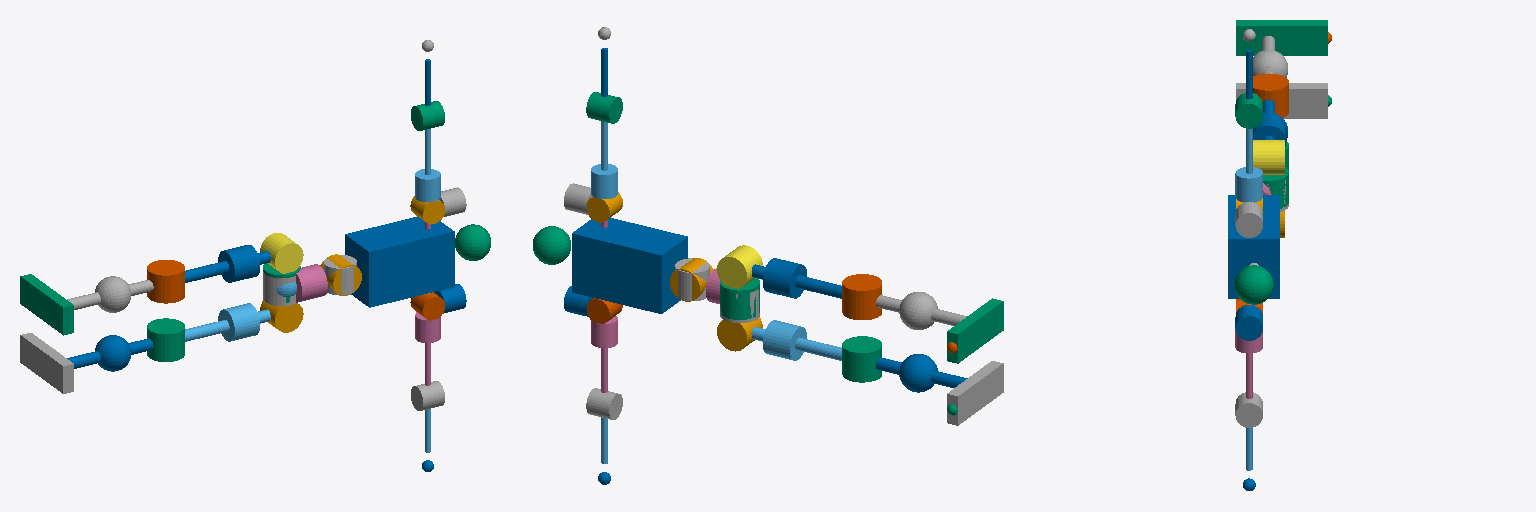
--- Render facts (derived) ---
Views: 3 orthographic renders of the robot side by side, from view 1: azimuth 30°, elevation 25°; view 2: azimuth 150°, elevation 25°; view 3: azimuth 270°, elevation 25°.
Robot: bvh_human_3dof_tpose — 70 links, 69 joints (23 revolute, 45 fixed, 1 floating); root link world; default pose: every joint at zero.
Links seen in each view (by area): view 1: Spine2, RightFoot, LeftFoot, LeftUpLeg, RightUpLeg, LeftLeg, RightLeg, RightLeg_rz, LeftLeg_rz, LeftUpLeg_ry, Head, LeftArm (+12 smaller); view 2: Spine2, LeftFoot, RightFoot, LeftUpLeg, RightUpLeg, RightLeg, LeftLeg, RightLeg_rz, LeftLeg_rz, LeftUpLeg_ry, LeftArm, Head (+10 smaller); view 3: Spine2, LeftFoot, RightFoot, Head, LeftArm, LeftLeg_rz, LeftUpLeg_ry, LeftLeg, LeftUpLeg, LeftArm_rz, RightArm_rz, LeftForeArm_rz (+3 smaller).
Link boxes in pixels (x1,y1,x2,y2): Spine2: [345, 216, 454, 307]; RightFoot: [20, 333, 73, 393]; LeftFoot: [20, 274, 73, 335]; LeftUpLeg: [185, 245, 270, 282]; RightUpLeg: [185, 303, 270, 341]; LeftLeg: [67, 276, 153, 312]; RightLeg: [67, 335, 153, 371]; RightLeg_rz: [147, 318, 184, 361]; LeftLeg_rz: [147, 260, 184, 303]; LeftUpLeg_ry: [260, 233, 303, 273]; Head: [455, 224, 490, 260]; LeftArm: [415, 129, 440, 201]; Spine2: [572, 218, 687, 313]; LeftFoot: [947, 298, 1003, 363]; RightFoot: [947, 361, 1003, 425]; LeftUpLeg: [752, 258, 841, 298]; RightUpLeg: [752, 320, 841, 360]; RightLeg: [876, 354, 967, 392]; LeftLeg: [876, 292, 966, 329]; RightLeg_rz: [842, 336, 881, 382]; LeftLeg_rz: [842, 274, 881, 319]; LeftUpLeg_ry: [717, 245, 762, 288]; LeftArm: [591, 121, 617, 198]; Head: [533, 226, 570, 264]; Spine2: [1228, 195, 1279, 298]; LeftFoot: [1236, 20, 1327, 55]; RightFoot: [1236, 83, 1327, 118]; Head: [1234, 265, 1273, 304]; LeftArm: [1235, 128, 1262, 202]; LeftLeg_rz: [1253, 73, 1288, 117]; LeftUpLeg_ry: [1253, 140, 1284, 174]; LeftLeg: [1253, 36, 1287, 77]; LeftUpLeg: [1253, 100, 1286, 146]; LeftArm_rz: [1235, 202, 1262, 237]; RightArm_rz: [1235, 305, 1262, 340]; LeftForeArm_rz: [1235, 93, 1262, 128].
Size in the robot's own frame: 0.816 by 0.1588 by 0.7748 metres.
Geometry: primitives only (box / cylinder / sphere), no mesh files.

The robot description file, URDF, robot "bvh_human_3dof_tpose":
<?xml version='1.0' encoding='utf-8'?>
<robot name="bvh_human_3dof_tpose">
  <mujoco>
    <compiler meshdir="meshes" fusestatic="false" discardvisual="false" strippath="false" balanceinertia="true" />
  </mujoco>
  <link name="world"><inertial><origin xyz="0 0 0" rpy="0 0 0" /><mass value="0.1" /><inertia ixx="4e-06" ixy="0" ixz="0" iyy="4e-06" iyz="0" izz="4e-06" /></inertial></link>
  <joint name="floating_base_joint" type="floating">
    <parent link="world" />
    <child link="Hips" />
  </joint>
  <link name="Hips">
    <inertial>
      <origin xyz="0 0 0" rpy="0 0 0" />
      <mass value="0.1" />
      <inertia ixx="2.5e-05" ixy="0" ixz="0" iyy="2.5e-05" iyz="0" izz="2.5e-05" />
    </inertial>
    <visual>
      <geometry>
        <sphere radius="0.025" />
      </geometry>
    </visual>
    <collision>
      <geometry>
        <sphere radius="0.025" />
      </geometry>
    </collision>
  

    <collision>

      <geometry>
        <sphere radius="0.025" />
      </geometry>

    </collision></link>
  <link name="LeftUpLeg_rz">
    <inertial>
      <origin xyz="0 0 -0.05" rpy="0 0 0" />
      <mass value="0.5" />
      <inertia ixx="0.0001922" ixy="0" ixz="0" iyy="0.0001922" iyz="0" izz="0.0001922" />
    </inertial>
    <visual>
      <origin xyz="0 0 -0.05" rpy="0 0 0" />
      <geometry>
        <cylinder radius="0.031" length="0.05" />
      </geometry>
    </visual>
  

    <collision>

      <origin xyz="0 0 -0.05" rpy="0 0 0" />

      <geometry>
        <cylinder radius="0.031" length="0.05" />
      </geometry>

    </collision></link>
  <link name="LeftUpLeg_ry">
    <inertial>
      <origin xyz="0 0.0 0" rpy="0 0 0" />
      <mass value="0.4" />
      <inertia ixx="0.00011664" ixy="0" ixz="0" iyy="0.00011664" iyz="0" izz="0.00011664" />
    </inertial>
    <visual>
      <origin xyz="0 0.0 0" rpy="-1.5707963 0 0" />
      <geometry>
        <cylinder radius="0.027" length="0.048" />
      </geometry>
    </visual>
  

    <collision>

      <origin xyz="0 0.0 0" rpy="-1.5707963 0 0" />

      <geometry>
        <cylinder radius="0.027" length="0.048" />
      </geometry>

    </collision></link>
  <link name="LeftUpLeg">
    <inertial>
      <origin xyz="0.08 0 0" rpy="0 0 0" />
      <mass value="0.4" />
      <inertia ixx="0.0016" ixy="0" ixz="0" iyy="0.0016" iyz="0" izz="0.0016" />
    </inertial>
    <visual>
      <origin xyz="0.1 -0 -0" rpy="0 1.57 0" />
      <geometry>
        <cylinder radius="0.01" length="0.2" />
      </geometry>
    </visual>
    <visual>
      <origin xyz="0.08 0 0" rpy="0 1.5707963 0" />
      <geometry>
        <cylinder radius="0.027" length="0.048" />
      </geometry>
    </visual>
  

   

    <collision>

      <origin xyz="0.08 0 0" rpy="0 1.5707963 0" />

      <geometry>
        <cylinder radius="0.027" length="0.048" />
      </geometry>

    </collision></link>
  <joint name="Hips_to_LeftUpLeg_rz" type="revolute">
    <parent link="Hips" />
    <child link="LeftUpLeg_rz" />
    <origin xyz="0.00051729 0.0092891 0.05274253" rpy="0 0 -3.1415927" />
    <axis xyz="0 0 1" />
    <limit lower="-3.14159" upper="3.14159" effort="55" velocity="10" />
  </joint>
  <joint name="LeftUpLeg_rz_to_LeftUpLeg_ry" type="revolute">
    <parent link="LeftUpLeg_rz" />
    <child link="LeftUpLeg_ry" />
    <origin xyz="0 0 0" rpy="0 0 0" />
    <axis xyz="0 1 0" />
    <limit lower="-3.14159" upper="3.14159" effort="25" velocity="10" />
  </joint>
  <joint name="LeftUpLeg_ry_to_LeftUpLeg" type="revolute">
    <parent link="LeftUpLeg_ry" />
    <child link="LeftUpLeg" />
    <origin xyz="0 0 0" rpy="3.1415927 0 0" />
    <axis xyz="1 0 0" />
    <limit lower="-3.14159" upper="3.14159" effort="25" velocity="10" />
  </joint>
  <link name="LeftLeg_rz">
    <inertial>
      <origin xyz="0 0 0" rpy="0 0 0" />
      <mass value="0.5" />
      <inertia ixx="0.0001922" ixy="0" ixz="0" iyy="0.0001922" iyz="0" izz="0.0001922" />
    </inertial>
    <visual>
      <origin xyz="0 0 0" rpy="0 0 0" />
      <geometry>
        <cylinder radius="0.031" length="0.05" />
      </geometry>
    </visual>
  

    <collision>

      <origin xyz="0 0 0" rpy="0 0 0" />

      <geometry>
        <cylinder radius="0.031" length="0.05" />
      </geometry>

    </collision></link>
  <link name="LeftLeg_ry">
    <inertial>
      <origin xyz="0 0 0" rpy="0 0 0" />
      <mass value="0.01" />
      <inertia ixx="4e-07" ixy="0" ixz="0" iyy="4e-07" iyz="0" izz="4e-07" />
    </inertial>
  </link>
  <link name="LeftLeg">
    <inertial>
      <origin xyz="0.1 0 0" rpy="0 0 0" />
      <mass value="0.8" />
      <inertia ixx="0.0032" ixy="0" ixz="0" iyy="0.0032" iyz="0" izz="0.0032" />
    </inertial>
    <visual>
      <origin xyz="0.1 -0 -0" rpy="0 1.57 0" />
      <geometry>
        <cylinder radius="0.01" length="0.2" />
      </geometry>
    </visual>
    <visual>
      <origin xyz="0.1 -0 -0" rpy="0 1.57 0" />
      <geometry>
        <sphere radius="0.03" />
      </geometry>
    </visual>
  

   

    <collision>

      <origin xyz="0.1 -0 -0" rpy="0 1.57 0" />

      <geometry>
        <sphere radius="0.03" />
      </geometry>

    </collision></link>
  <joint name="LeftUpLeg_to_LeftLeg_rz" type="revolute">
    <parent link="LeftUpLeg" />
    <child link="LeftLeg_rz" />
    <origin xyz="0.2175 -0.0000001 0.00000001" rpy="0 0 0" />
    <axis xyz="0 0 1" />
    <limit lower="-3.14159" upper="3.14159" effort="55" velocity="10" />
  </joint>
  <joint name="LeftLeg_rz_to_LeftLeg_ry" type="fixed">
    <parent link="LeftLeg_rz" />
    <child link="LeftLeg_ry" />
    <origin xyz="0 0 0" rpy="0 0 0" />
    <axis xyz="0 1 0" />
    <limit lower="-3.14159" upper="3.14159" effort="100" velocity="10" />
  </joint>
  <joint name="LeftLeg_ry_to_LeftLeg" type="fixed">
    <parent link="LeftLeg_ry" />
    <child link="LeftLeg" />
    <origin xyz="0 0 0" rpy="0 0 0" />
    <axis xyz="1 0 0" />
    <limit lower="-3.14159" upper="3.14159" effort="100" velocity="10" />
  </joint>
  <link name="LeftFoot_rz">
    <inertial>
      <origin xyz="0 0 0" rpy="0 0 0" />
      <mass value="0.01" />
      <inertia ixx="1.6e-06" ixy="0" ixz="0" iyy="1.6e-06" iyz="0" izz="1.6e-06" />
    </inertial>
    <visual>
      <origin xyz="0 0 0" rpy="0 0 0" />
      <geometry>
        <cylinder radius="0.005" length="0.04" />
      </geometry>
    </visual>
  

  </link>
  <link name="LeftFoot_ry">
    <inertial>
      <origin xyz="0 0 0" rpy="0 0 0" />
      <mass value="0.01" />
      <inertia ixx="4e-07" ixy="0" ixz="0" iyy="4e-07" iyz="0" izz="4e-07" />
    </inertial>
  </link>
  <link name="LeftFoot">
    <inertial>
      <origin xyz="0 0 0" rpy="0 0 0" />
      <mass value="0.01" />
      <inertia ixx="1.96e-05" ixy="0" ixz="0" iyy="1.96e-05" iyz="0" izz="1.96e-05" />
    </inertial>
    <visual>
      <origin xyz="0.02 0 0" rpy="0 0 0" />
      <geometry>
        <box size="0.14 0.02 0.05" />
      </geometry>
    </visual>
    <visual>
      <origin xyz="0 0 0" rpy="0 1.5707963 0" />
      <geometry>
        <cylinder radius="0.005" length="0.04" />
      </geometry>
    </visual>
  

    <collision>

      <origin xyz="0.02 0 0" rpy="0 0 0" />

      <geometry>
        <box size="0.14 0.02 0.05" />
      </geometry>

    </collision>

  </link>
  <joint name="LeftLeg_to_LeftFoot_rz" type="revolute">
    <parent link="LeftLeg" />
    <child link="LeftFoot_rz" />
    <origin xyz="0.211861 -0.00000002 0.00000001" rpy="0 0 1.5707963" />
    <axis xyz="0 0 1" />
    <limit lower="-3.14159" upper="3.14159" effort="50" velocity="10" />
  </joint>
  <joint name="LeftFoot_rz_to_LeftFoot_ry" type="fixed">
    <parent link="LeftFoot_rz" />
    <child link="LeftFoot_ry" />
    <origin xyz="0 0 0" rpy="0 0 0" />
    <axis xyz="0 1 0" />
    <limit lower="-3.14159" upper="3.14159" effort="100" velocity="10" />
  </joint>
  <joint name="LeftFoot_ry_to_LeftFoot" type="revolute">
    <parent link="LeftFoot_ry" />
    <child link="LeftFoot" />
    <origin xyz="0 0 0" rpy="0 0 0" />
    <axis xyz="1 0 0" />
    <limit lower="-3.14159" upper="3.14159" effort="50" velocity="10" />
  </joint>
  <link name="LeftToe_rz">
    <inertial>
      <origin xyz="0 0 0" rpy="0 0 0" />
      <mass value="0.01" />
      <inertia ixx="4e-07" ixy="0" ixz="0" iyy="4e-07" iyz="0" izz="4e-07" />
    </inertial>
  </link>
  <link name="LeftToe_ry">
    <inertial>
      <origin xyz="0 0 0" rpy="0 0 0" />
      <mass value="0.01" />
      <inertia ixx="4e-07" ixy="0" ixz="0" iyy="4e-07" iyz="0" izz="4e-07" />
    </inertial>
  </link>
  <link name="LeftToe">
    <inertial>
      <origin xyz="0 0 0" rpy="0 0 0" />
      <mass value="0.01" />
      <inertia ixx="4e-07" ixy="0" ixz="0" iyy="4e-07" iyz="0" izz="4e-07" />
    </inertial>
    <visual>
      <geometry>
        <sphere radius="0.01" />
      </geometry>
    </visual>
  

    <collision>

      <geometry>
        <sphere radius="0.01" />
      </geometry>

    </collision></link>
  <joint name="LeftFoot_to_LeftToe_rz" type="fixed">
    <parent link="LeftFoot" />
    <child link="LeftToe_rz" />
    <origin xyz="0.08650004 0.00000001 0.00000003" rpy="0 0 0" />
    <axis xyz="0 0 1" />
    <limit lower="-3.14159" upper="3.14159" effort="100" velocity="10" />
  </joint>
  <joint name="LeftToe_rz_to_LeftToe_ry" type="fixed">
    <parent link="LeftToe_rz" />
    <child link="LeftToe_ry" />
    <origin xyz="0 0 0" rpy="0 0 0" />
    <axis xyz="0 1 0" />
    <limit lower="-3.14159" upper="3.14159" effort="100" velocity="10" />
  </joint>
  <joint name="LeftToe_ry_to_LeftToe" type="fixed">
    <parent link="LeftToe_ry" />
    <child link="LeftToe" />
    <origin xyz="0 0 0" rpy="0 0 0" />
    <axis xyz="1 0 0" />
    <limit lower="-3.14159" upper="3.14159" effort="100" velocity="10" />
  </joint>
  <link name="LeftToe_End">
    <inertial>
      <origin xyz="0 0 0" rpy="0 0 0" />
      <mass value="0.01" />
      <inertia ixx="4e-07" ixy="0" ixz="0" iyy="4e-07" iyz="0" izz="4e-07" />
    </inertial>
    <visual>
      <geometry>
        <sphere radius="0.01" />
      </geometry>
    </visual>
  

    <collision>

      <geometry>
        <sphere radius="0.01" />
      </geometry>

    </collision></link>
  <joint name="LeftToe_to_LeftToe_End" type="fixed">
    <parent link="LeftToe" />
    <child link="LeftToe_End" />
    <origin xyz="0 0 0" rpy="0 0 0" />
  </joint>

  

  <link name="RightUpLeg_rz">
    <inertial>
      <origin xyz="0 0 0.05" rpy="0 0 0" />
      <mass value="0.5" />
      <inertia ixx="0.0001922" ixy="0" ixz="0" iyy="0.0001922" iyz="0" izz="0.0001922" />
    </inertial>
    <visual>
      <origin xyz="0 0 0.05" rpy="0 0 0" />
      <geometry>
        <cylinder radius="0.031" length="0.05" />
      </geometry>
    </visual>
  

    <collision>

      <origin xyz="0 0 0.05" rpy="0 0 0" />

      <geometry>
        <cylinder radius="0.031" length="0.05" />
      </geometry>

    </collision></link>
  <link name="RightUpLeg_ry">
    <inertial>
      <origin xyz="0 0.0 0" rpy="0 0 0" />
      <mass value="0.4" />
      <inertia ixx="0.00011664" ixy="0" ixz="0" iyy="0.00011664" iyz="0" izz="0.00011664" />
    </inertial>
    <visual>
      <origin xyz="0 0.0 0" rpy="-1.5707963 0 0" />
      <geometry>
        <cylinder radius="0.027" length="0.048" />
      </geometry>
    </visual>
  

    <collision>

      <origin xyz="0 0.0 0" rpy="-1.5707963 0 0" />

      <geometry>
        <cylinder radius="0.027" length="0.048" />
      </geometry>

    </collision></link>
  <link name="RightUpLeg">
    <inertial>
      <origin xyz="0.08 0 0" rpy="0 0 0" />
      <mass value="0.4" />
      <inertia ixx="0.0016" ixy="0" ixz="0" iyy="0.0016" iyz="0" izz="0.0016" />
    </inertial>
    <visual>
      <origin xyz="0.1 -0 -0" rpy="0 1.57 0" />
      <geometry>
        <cylinder radius="0.01" length="0.2" />
      </geometry>
    </visual>
    <visual>
      <origin xyz="0.08 0 0" rpy="0 1.5707963 0" />
      <geometry>
        <cylinder radius="0.027" length="0.048" />
      </geometry>
    </visual>
  

   

    <collision>

      <origin xyz="0.08 0 0" rpy="0 1.5707963 0" />

      <geometry>
        <cylinder radius="0.027" length="0.048" />
      </geometry>

    </collision></link>
  <joint name="Hips_to_RightUpLeg_rz" type="revolute">
    <parent link="Hips" />
    <child link="RightUpLeg_rz" />
    <origin xyz="0.00051729 0.00928909 -0.05274252" rpy="0 0 -3.1415927" />
    <axis xyz="0 0 1" />
    <limit lower="-3.14159" upper="3.14159" effort="100" velocity="10" />
  </joint>
  <joint name="RightUpLeg_rz_to_RightUpLeg_ry" type="revolute">
    <parent link="RightUpLeg_rz" />
    <child link="RightUpLeg_ry" />
    <origin xyz="0 0 0" rpy="0 0 0" />
    <axis xyz="0 1 0" />
    <limit lower="-3.14159" upper="3.14159" effort="100" velocity="10" />
  </joint>
  <joint name="RightUpLeg_ry_to_RightUpLeg" type="revolute">
    <parent link="RightUpLeg_ry" />
    <child link="RightUpLeg" />
    <origin xyz="0 0 0" rpy="-3.1415927 0 0" />
    <axis xyz="1 0 0" />
    <limit lower="-3.14159" upper="3.14159" effort="100" velocity="10" />
  </joint>
  <link name="RightLeg_rz">
    <inertial>
      <origin xyz="0 0 0" rpy="0 0 0" />
      <mass value="0.5" />
      <inertia ixx="0.0001922" ixy="0" ixz="0" iyy="0.0001922" iyz="0" izz="0.0001922" />
    </inertial>
    <visual>
      <origin xyz="0 0 0" rpy="0 0 0" />
      <geometry>
        <cylinder radius="0.031" length="0.05" />
      </geometry>
    </visual>
  

    <collision>

      <origin xyz="0 0 0" rpy="0 0 0" />

      <geometry>
        <cylinder radius="0.031" length="0.05" />
      </geometry>

    </collision></link>
  <link name="RightLeg_ry">
    <inertial>
      <origin xyz="0 0 0" rpy="0 0 0" />
      <mass value="0.01" />
      <inertia ixx="4e-07" ixy="0" ixz="0" iyy="4e-07" iyz="0" izz="4e-07" />
    </inertial>
  </link>
  <link name="RightLeg">
    <inertial>
      <origin xyz="0.1 0 0" rpy="0 0 0" />
      <mass value="0.8" />
      <inertia ixx="0.0032" ixy="0" ixz="0" iyy="0.0032" iyz="0" izz="0.0032" />
    </inertial>
    <visual>
      <origin xyz="0.1 -0 -0" rpy="0 1.57 0" />
      <geometry>
        <cylinder radius="0.01" length="0.2" />
      </geometry>
    </visual>
    <visual>
      <origin xyz="0.1 -0 -0" rpy="0 1.57 0" />
      <geometry>
        <sphere radius="0.03" />
      </geometry>
    </visual>
  

   

    <collision>

      <origin xyz="0.1 -0 -0" rpy="0 1.57 0" />

      <geometry>
        <sphere radius="0.03" />
      </geometry>

    </collision></link>
  <joint name="RightUpLeg_to_RightLeg_rz" type="revolute">
    <parent link="RightUpLeg" />
    <child link="RightLeg_rz" />
    <origin xyz="0.21750021 -0.00000007 0.00000005" rpy="0 0 0" />
    <axis xyz="0 0 1" />
    <limit lower="-3.14159" upper="3.14159" effort="100" velocity="10" />
  </joint>
  <joint name="RightLeg_rz_to_RightLeg_ry" type="fixed">
    <parent link="RightLeg_rz" />
    <child link="RightLeg_ry" />
    <origin xyz="0 0 0" rpy="0 0 0" />
    <axis xyz="0 1 0" />
    <limit lower="-3.14159" upper="3.14159" effort="100" velocity="10" />
  </joint>
  <joint name="RightLeg_ry_to_RightLeg" type="fixed">
    <parent link="RightLeg_ry" />
    <child link="RightLeg" />
    <origin xyz="0 0 0" rpy="0 0 0" />
    <axis xyz="1 0 0" />
    <limit lower="-3.14159" upper="3.14159" effort="100" velocity="10" />
  </joint>
  <link name="RightFoot_rz">
    <inertial>
      <origin xyz="0 0 0" rpy="0 0 0" />
      <mass value="0.01" />
      <inertia ixx="1.6e-06" ixy="0" ixz="0" iyy="1.6e-06" iyz="0" izz="1.6e-06" />
    </inertial>
    <visual>
      <origin xyz="0 0 0" rpy="0 0 0" />
      <geometry>
        <cylinder radius="0.005" length="0.04" />
      </geometry>
    </visual>
  

  </link>
  <link name="RightFoot_ry">
    <inertial>
      <origin xyz="0 0 0" rpy="0 0 0" />
      <mass value="0.01" />
      <inertia ixx="4e-07" ixy="0" ixz="0" iyy="4e-07" iyz="0" izz="4e-07" />
    </inertial>
  </link>
  <link name="RightFoot">
    <inertial>
      <origin xyz="0 0 0" rpy="0 0 0" />
      <mass value="0.01" />
      <inertia ixx="1.96e-05" ixy="0" ixz="0" iyy="1.96e-05" iyz="0" izz="1.96e-05" />
    </inertial>
    <visual>
      <origin xyz="0.02 0 0" rpy="0 0 0" />
      <geometry>
        <box size="0.14 0.02 0.05" />
      </geometry>
    </visual>
    <visual>
      <origin xyz="0 0 0" rpy="0 1.5707963 0" />
      <geometry>
        <cylinder radius="0.005" length="0.04" />
      </geometry>
    </visual>
  

    <collision>

      <origin xyz="0.02 0 0" rpy="0 0 0" />

      <geometry>
        <box size="0.14 0.02 0.05" />
      </geometry>

    </collision>

  </link>
  <joint name="RightLeg_to_RightFoot_rz" type="revolute">
    <parent link="RightLeg" />
    <child link="RightFoot_rz" />
    <origin xyz="0.2118613 -0.00000004 0.00000005" rpy="0 0 1.5707963" />
    <axis xyz="0 0 1" />
    <limit lower="-3.14159" upper="3.14159" effort="100" velocity="10" />
  </joint>
  <joint name="RightFoot_rz_to_RightFoot_ry" type="fixed">
    <parent link="RightFoot_rz" />
    <child link="RightFoot_ry" />
    <origin xyz="0 0 0" rpy="0 0 0" />
    <axis xyz="0 1 0" />
    <limit lower="-3.14159" upper="3.14159" effort="100" velocity="10" />
  </joint>
  <joint name="RightFoot_ry_to_RightFoot" type="revolute">
    <parent link="RightFoot_ry" />
    <child link="RightFoot" />
    <origin xyz="0 0 0" rpy="0 0 0" />
    <axis xyz="1 0 0" />
    <limit lower="-3.14159" upper="3.14159" effort="100" velocity="10" />
  </joint>
  <link name="RightToe_rz">
    <inertial>
      <origin xyz="0 0 0" rpy="0 0 0" />
      <mass value="0.01" />
      <inertia ixx="4e-07" ixy="0" ixz="0" iyy="4e-07" iyz="0" izz="4e-07" />
    </inertial>
  </link>
  <link name="RightToe_ry">
    <inertial>
      <origin xyz="0 0 0" rpy="0 0 0" />
      <mass value="0.01" />
      <inertia ixx="4e-07" ixy="0" ixz="0" iyy="4e-07" iyz="0" izz="4e-07" />
    </inertial>
  </link>
  <link name="RightToe">
    <inertial>
      <origin xyz="0 0 0" rpy="0 0 0" />
      <mass value="0.01" />
      <inertia ixx="4e-07" ixy="0" ixz="0" iyy="4e-07" iyz="0" izz="4e-07" />
    </inertial>
    <visual>
      <geometry>
        <sphere radius="0.01" />
      </geometry>
    </visual>
  

    <collision>

      <geometry>
        <sphere radius="0.01" />
      </geometry>

    </collision></link>
  <joint name="RightFoot_to_RightToe_rz" type="fixed">
    <parent link="RightFoot" />
    <child link="RightToe_rz" />
    <origin xyz="0.08649998 -0.00000002 0" rpy="0 0 0" />
    <axis xyz="0 0 1" />
    <limit lower="-3.14159" upper="3.14159" effort="100" velocity="10" />
  </joint>
  <joint name="RightToe_rz_to_RightToe_ry" type="fixed">
    <parent link="RightToe_rz" />
    <child link="RightToe_ry" />
    <origin xyz="0 0 0" rpy="0 0 0" />
    <axis xyz="0 1 0" />
    <limit lower="-3.14159" upper="3.14159" effort="100" velocity="10" />
  </joint>
  <joint name="RightToe_ry_to_RightToe" type="fixed">
    <parent link="RightToe_ry" />
    <child link="RightToe" />
    <origin xyz="0 0 0" rpy="0 0 0" />
    <axis xyz="1 0 0" />
    <limit lower="-3.14159" upper="3.14159" effort="100" velocity="10" />
  </joint>
  <link name="RightToe_End">
    <inertial>
      <origin xyz="0 0 0" rpy="0 0 0" />
      <mass value="0.01" />
      <inertia ixx="4e-07" ixy="0" ixz="0" iyy="4e-07" iyz="0" izz="4e-07" />
    </inertial>
    <visual>
      <geometry>
        <sphere radius="0.01" />
      </geometry>
    </visual>
  

    <collision>

      <geometry>
        <sphere radius="0.01" />
      </geometry>

    </collision></link>
  <joint name="RightToe_to_RightToe_End" type="fixed">
    <parent link="RightToe" />
    <child link="RightToe_End" />
    <origin xyz="0 0 0" rpy="0 0 0" />
  </joint>

  

  

  <link name="Spine_rz">
    <inertial>
      <origin xyz="0 0 0" rpy="0 0 0" />
      <mass value="0.01" />
      <inertia ixx="4e-07" ixy="0" ixz="0" iyy="4e-07" iyz="0" izz="4e-07" />
    </inertial>
  </link>
  <link name="Spine_ry">
    <inertial>
      <origin xyz="0 0 0" rpy="0 0 0" />
      <mass value="0.01" />
      <inertia ixx="4e-07" ixy="0" ixz="0" iyy="4e-07" iyz="0" izz="4e-07" />
    </inertial>
  </link>
  <link name="Spine">
    <inertial>
      <origin xyz="0 0 0" rpy="0 0 0" />
      <mass value="0.4" />
      <inertia ixx="1.6e-05" ixy="0" ixz="0" iyy="1.6e-05" iyz="0" izz="1.6e-05" />
    </inertial>
    <visual>
      <geometry>
        <sphere radius="0.01" />
      </geometry>
    </visual>
    <visual>
      <origin xyz="0 0 0" rpy="0 1.5707963 0" />
      <geometry>
        <cylinder radius="0.027" length="0.048" />
      </geometry>
    </visual>
  

    <collision>

      <geometry>
        <sphere radius="0.01" />
      </geometry>

    </collision>

    <collision>

      <origin xyz="0 0 0" rpy="0 1.5707963 0" />

      <geometry>
        <cylinder radius="0.027" length="0.048" />
      </geometry>

    </collision></link>
  <joint name="Hips_to_Spine_rz" type="fixed">
    <parent link="Hips" />
    <child link="Spine_rz" />
    <origin xyz="0.03450984 -0.01301872 0.00000001" rpy="0 0 0" />
    <axis xyz="0 0 1" />
    <limit lower="-3.14159" upper="3.14159" effort="100" velocity="10" />
  </joint>
  <joint name="Spine_rz_to_Spine_ry" type="fixed">
    <parent link="Spine_rz" />
    <child link="Spine_ry" />
    <origin xyz="0 0 0" rpy="0 0 0" />
    <axis xyz="0 1 0" />
    <limit lower="-3.14159" upper="3.14159" effort="100" velocity="10" />
  </joint>
  <joint name="Spine_ry_to_Spine" type="revolute">
    <parent link="Spine_ry" />
    <child link="Spine" />
    <origin xyz="0 0 0" rpy="0 0 0" />
    <axis xyz="1 0 0" />
    <limit lower="-3.14159" upper="3.14159" effort="100" velocity="10" />
  </joint>

  <link name="Spine1_rz">
    <inertial>
      <origin xyz="0 0 0" rpy="0 0 0" />
      <mass value="0.4" />
      <inertia ixx="0.00011664" ixy="0" ixz="0" iyy="0.00011664" iyz="0" izz="0.00011664" />
    </inertial>
    <visual>
      <origin xyz="0 0 0" rpy="0 0 0" />
      <geometry>
        <cylinder radius="0.027" length="0.048" />
      </geometry>
    </visual>
  

    <collision>

      <origin xyz="0 0 0" rpy="0 0 0" />

      <geometry>
        <cylinder radius="0.027" length="0.048" />
      </geometry>

    </collision></link>
  <link name="Spine1_ry">
    <inertial>
      <origin xyz="0 0 0" rpy="0 0 0" />
      <mass value="0.4" />
      <inertia ixx="0.00011664" ixy="0" ixz="0" iyy="0.00011664" iyz="0" izz="0.00011664" />
    </inertial>
    <visual>
      <origin xyz="0 0 0" rpy="-1.5707963 0 0" />
      <geometry>
        <cylinder radius="0.027" length="0.048" />
      </geometry>
    </visual>
  

    <collision>

      <origin xyz="0 0 0" rpy="-1.5707963 0 0" />

      <geometry>
        <cylinder radius="0.027" length="0.048" />
      </geometry>

    </collision></link>
  <link name="Spine1">
    <inertial>
      <origin xyz="0 0 0" rpy="0 0 0" />
      <mass value="0.01" />
      <inertia ixx="4e-07" ixy="0" ixz="0" iyy="4e-07" iyz="0" izz="4e-07" />
    </inertial>
    <visual>
      <geometry>
        <sphere radius="0.01" />
      </geometry>
    </visual>
  

    <collision>

      <geometry>
        <sphere radius="0.01" />
      </geometry>

    </collision></link>
  <joint name="Spine_to_Spine1_rz" type="revolute">
    <parent link="Spine" />
    <child link="Spine1_rz" />
    <origin xyz="0.0629405 0.00000008 -0.00000002" rpy="0 0 0" />
    <axis xyz="0 0 1" />
    <limit lower="-3.14159" upper="3.14159" effort="100" velocity="10" />
  </joint>
  <joint name="Spine1_rz_to_Spine1_ry" type="revolute">
    <parent link="Spine1_rz" />
    <child link="Spine1_ry" />
    <origin xyz="0 0 0" rpy="0 0 0" />
    <axis xyz="0 1 0" />
    <limit lower="-3.14159" upper="3.14159" effort="100" velocity="10" />
  </joint>
  <joint name="Spine1_ry_to_Spine1" type="fixed">
    <parent link="Spine1_ry" />
    <child link="Spine1" />
    <origin xyz="0 0 0" rpy="0 0 0" />
    <axis xyz="1 0 0" />
    <limit lower="-3.14159" upper="3.14159" effort="100" velocity="10" />
  </joint>

  <link name="Spine2_rz">
    <inertial>
      <origin xyz="0 0 0" rpy="0 0 0" />
      <mass value="0.01" />
      <inertia ixx="4e-07" ixy="0" ixz="0" iyy="4e-07" iyz="0" izz="4e-07" />
    </inertial>
  </link>
  <link name="Spine2_ry">
    <inertial>
      <origin xyz="0 0 0" rpy="0 0 0" />
      <mass value="0.01" />
      <inertia ixx="4e-07" ixy="0" ixz="0" iyy="4e-07" iyz="0" izz="4e-07" />
    </inertial>
  </link>
  <link name="Spine2">
    <inertial>
      <origin xyz="0.05 0 0" rpy="0 0 0" />
      <mass value="2.01" />
      <inertia ixx="2.56e-05" ixy="0" ixz="0" iyy="2.56e-05" iyz="0" izz="2.56e-05" />
    </inertial>
    <visual>
      <origin xyz="0.05 0.0 0.00" rpy="0 1.57 0" />
      <geometry>
        <box size="0.1 0.08 0.16" />
      </geometry>
    </visual>
  

    <collision>

      <origin xyz="0.05 0.0 0.00" rpy="0 1.57 0" />

      <geometry>
        <box size="0.1 0.08 0.16" />
      </geometry>

    </collision></link>
  <joint name="Spine1_to_Spine2_rz" type="fixed">
    <parent link="Spine1" />
    <child link="Spine2_rz" />
    <origin xyz="0.061716 -0.00000006 -0.00000002" rpy="0 0 0" />
    <axis xyz="0 0 1" />
    <limit lower="-3.14159" upper="3.14159" effort="100" velocity="10" />
  </joint>
  <joint name="Spine2_rz_to_Spine2_ry" type="fixed">
    <parent link="Spine2_rz" />
    <child link="Spine2_ry" />
    <origin xyz="0 0 0" rpy="0 0 0" />
    <axis xyz="0 1 0" />
    <limit lower="-3.14159" upper="3.14159" effort="100" velocity="10" />
  </joint>
  <joint name="Spine2_ry_to_Spine2" type="fixed">
    <parent link="Spine2_ry" />
    <child link="Spine2" />
    <origin xyz="0 0 0" rpy="0 0 0" />
    <axis xyz="1 0 0" />
    <limit lower="-3.14159" upper="3.14159" effort="100" velocity="10" />
  </joint>

  <link name="Neck_rz">
    <inertial>
      <origin xyz="0 0 0" rpy="0 0 0" />
      <mass value="0.01" />
      <inertia ixx="4e-07" ixy="0" ixz="0" iyy="4e-07" iyz="0" izz="4e-07" />
    </inertial>
  </link>
  <link name="Neck_ry">
    <inertial>
      <origin xyz="0 0 0" rpy="0 0 0" />
      <mass value="0.01" />
      <inertia ixx="4e-07" ixy="0" ixz="0" iyy="4e-07" iyz="0" izz="4e-07" />
    </inertial>
  </link>
  <link name="Neck">
    <inertial>
      <origin xyz="0 0 0" rpy="0 0 0" />
      <mass value="0.01" />
      <inertia ixx="4e-07" ixy="0" ixz="0" iyy="4e-07" iyz="0" izz="4e-07" />
    </inertial>
    <visual>
      <geometry>
        <sphere radius="0.01" />
      </geometry>
    </visual>
  

    <collision>

      <geometry>
        <sphere radius="0.01" />
      </geometry>

    </collision></link>
  <joint name="Spine2_to_Neck_rz" type="fixed">
    <parent link="Spine2" />
    <child link="Neck_rz" />
    <origin xyz="0.12916448 0.00000004 0.00000003" rpy="0 0 0" />
    <axis xyz="0 0 1" />
    <limit lower="-3.14159" upper="3.14159" effort="100" velocity="10" />
  </joint>
  <joint name="Neck_rz_to_Neck_ry" type="fixed">
    <parent link="Neck_rz" />
    <child link="Neck_ry" />
    <origin xyz="0 0 0" rpy="0 0 0" />
    <axis xyz="0 1 0" />
    <limit lower="-3.14159" upper="3.14159" effort="100" velocity="10" />
  </joint>
  <joint name="Neck_ry_to_Neck" type="fixed">
    <parent link="Neck_ry" />
    <child link="Neck" />
    <origin xyz="0 0 0" rpy="0 0 0" />
    <axis xyz="1 0 0" />
    <limit lower="-3.14159" upper="3.14159" effort="100" velocity="10" />
  </joint>

  <link name="Head_rz">
    <inertial>
      <origin xyz="0 0 0" rpy="0 0 0" />
      <mass value="0.01" />
      <inertia ixx="4e-07" ixy="0" ixz="0" iyy="4e-07" iyz="0" izz="4e-07" />
    </inertial>
  </link>
  <link name="Head_ry">
    <inertial>
      <origin xyz="0 0 0" rpy="0 0 0" />
      <mass value="0.01" />
      <inertia ixx="4e-07" ixy="0" ixz="0" iyy="4e-07" iyz="0" izz="4e-07" />
    </inertial>
  </link>
  <link name="Head">
    <inertial>
      <origin xyz="0 0 0" rpy="0 0 0" />
      <mass value="0.01" />
      <inertia ixx="3.6e-06" ixy="0" ixz="0" iyy="3.6e-06" iyz="0" izz="3.6e-06" />
    </inertial>
    <visual>
      <geometry>
        <sphere radius="0.03" />
      </geometry>
    </visual>
  

    <collision>

      <geometry>
        <sphere radius="0.03" />
      </geometry>

    </collision></link>
  <joint name="Neck_to_Head_rz" type="fixed">
    <parent link="Neck" />
    <child link="Head_rz" />
    <origin xyz="0.05883306 -0.00000002 -0.00000001" rpy="0 0 0" />
    <axis xyz="0 0 1" />
    <limit lower="-3.14159" upper="3.14159" effort="100" velocity="10" />
  </joint>
  <joint name="Head_rz_to_Head_ry" type="fixed">
    <parent link="Head_rz" />
    <child link="Head_ry" />
    <origin xyz="0 0 0" rpy="0 0 0" />
    <axis xyz="0 1 0" />
    <limit lower="-3.14159" upper="-3.14159" effort="100" velocity="10" />
  </joint>
  <joint name="Head_ry_to_Head" type="fixed">
    <parent link="Head_ry" />
    <child link="Head" />
    <origin xyz="0 0 0" rpy="0 0 0" />
    <axis xyz="1 0 0" />
    <limit lower="-3.14159" upper="3.14159" effort="100" velocity="10" />
  </joint>

  <link name="Head_End">
    <inertial>
      <origin xyz="0 0 0" rpy="0 0 0" />
      <mass value="0.01" />
      <inertia ixx="4e-07" ixy="0" ixz="0" iyy="4e-07" iyz="0" izz="4e-07" />
    </inertial>
    <visual>
      <geometry>
        <sphere radius="0.01" />
      </geometry>
    </visual>
  

    <collision>

      <geometry>
        <sphere radius="0.01" />
      </geometry>

    </collision></link>
  <joint name="Head_to_Head_End" type="fixed">
    <parent link="Head" />
    <child link="Head_End" />
    <origin xyz="0 0 0" rpy="0 0 0" />
  </joint>

  

  <link name="LeftShoulder_rz">
    <inertial>
      <origin xyz="0 0 0" rpy="0 0 0" />
      <mass value="0.01" />
      <inertia ixx="4e-07" ixy="0" ixz="0" iyy="4e-07" iyz="0" izz="4e-07" />
    </inertial>
  </link>
  <link name="LeftShoulder_ry">
    <inertial>
      <origin xyz="0 0 0" rpy="0 0 0" />
      <mass value="0.01" />
      <inertia ixx="4e-07" ixy="0" ixz="0" iyy="4e-07" iyz="0" izz="4e-07" />
    </inertial>
  </link>
  <link name="LeftShoulder">
    <inertial>
      <origin xyz="0 0 0" rpy="0 0 0" />
      <mass value="0.01" />
      <inertia ixx="2.5e-06" ixy="0" ixz="0" iyy="2.5e-06" iyz="0" izz="2.5e-06" />
    </inertial>
    <visual>
      <origin xyz="0.025 -0 -0" rpy="0 1.57 0" />
      <geometry>
        <cylinder radius="0.005" length="0.05" />
      </geometry>
    </visual>
  

  </link>
  <joint name="Spine2_to_LeftShoulder_rz" type="fixed">
    <parent link="Spine2" />
    <child link="LeftShoulder_rz" />
    <origin xyz="0.09872949 -0.00740185 0.03000058" rpy="0 0 -1.5707963" />
    <axis xyz="0 0 1" />
    <limit lower="-3.14159" upper="3.14159" effort="100" velocity="10" />
  </joint>
  <joint name="LeftShoulder_rz_to_LeftShoulder_ry" type="fixed">
    <parent link="LeftShoulder_rz" />
    <child link="LeftShoulder_ry" />
    <origin xyz="0 0 0" rpy="0 -1.5707963 0" />
    <axis xyz="0 1 0" />
    <limit lower="-3.14159" upper="3.14159" effort="100" velocity="10" />
  </joint>
  <joint name="LeftShoulder_ry_to_LeftShoulder" type="fixed">
    <parent link="LeftShoulder_ry" />
    <child link="LeftShoulder" />
    <origin xyz="0 0 0" rpy="-1.5707963 0 0" />
    <axis xyz="1 0 0" />
    <limit lower="-3.14159" upper="3.14159" effort="100" velocity="10" />
  </joint>

  <link name="LeftArm_rz">
    <inertial>
      <origin xyz="0 0 0.04" rpy="0 0 0" />
      <mass value="0.3" />
      <inertia ixx="5.292e-05" ixy="0" ixz="0" iyy="5.292e-05" iyz="0" izz="5.292e-05" />
    </inertial>
    <visual>
      <origin xyz="0 0 0.04" rpy="0 0 0" />
      <geometry>
        <cylinder radius="0.021" length="0.041" />
      </geometry>
    </visual>
  

    <collision>

      <origin xyz="0 0 0.04" rpy="0 0 0" />

      <geometry>
        <cylinder radius="0.021" length="0.041" />
      </geometry>

    </collision></link>
  <link name="LeftArm_ry">
    <inertial>
      <origin xyz="0 0 0" rpy="0 0 0" />
      <mass value="0.3" />
      <inertia ixx="5.292e-05" ixy="0" ixz="0" iyy="5.292e-05" iyz="0" izz="5.292e-05" />
    </inertial>
    <visual>
      <origin xyz="0 0 0" rpy="-1.5707963 0 0" />
      <geometry>
        <cylinder radius="0.021" length="0.041" />
      </geometry>
    </visual>
  

    <collision>

      <origin xyz="0 0 0" rpy="-1.5707963 0 0" />

      <geometry>
        <cylinder radius="0.021" length="0.041" />
      </geometry>

    </collision></link>
  <link name="LeftArm">
    <inertial>
      <origin xyz="0.04 0 0" rpy="0 0 0" />
      <mass value="0.3" />
      <inertia ixx="0.000675" ixy="0" ixz="0" iyy="0.000675" iyz="0" izz="0.000675" />
    </inertial>
    <visual>
      <origin xyz="0.075 -0 -0" rpy="0 1.57 0" />
      <geometry>
        <cylinder radius="0.005" length="0.15" />
      </geometry>
    </visual>
    <visual>
      <origin xyz="0.04 0.0 0" rpy="0 1.5707963 0" />
      <geometry>
        <cylinder radius="0.021" length="0.041" />
      </geometry>
    </visual>
  

  

    <collision>

      <origin xyz="0.04 0.0 0" rpy="0 1.5707963 0" />

      <geometry>
        <cylinder radius="0.021" length="0.041" />
      </geometry>

    </collision></link>
  <joint name="LeftShoulder_to_LeftArm_rz" type="revolute">
    <parent link="LeftShoulder" />
    <child link="LeftArm_rz" />
    <origin xyz="0.05642062 -0.00000006 -0.00000004" rpy="0 0 0" />
    <axis xyz="0 0 1" />
    <limit lower="-3.14159" upper="3.14159" effort="100" velocity="10" />
  </joint>
  <joint name="LeftArm_rz_to_LeftArm_ry" type="revolute">
    <parent link="LeftArm_rz" />
    <child link="LeftArm_ry" />
    <origin xyz="0 0 0" rpy="0 0 0" />
    <axis xyz="0 1 0" />
    <limit lower="-3.14159" upper="3.14159" effort="100" velocity="10" />
  </joint>
  <joint name="LeftArm_ry_to_LeftArm" type="revolute">
    <parent link="LeftArm_ry" />
    <child link="LeftArm" />
    <origin xyz="0 0 0" rpy="0 0 0" />
    <axis xyz="1 0 0" />
    <limit lower="-3.14159" upper="3.14159" effort="100" velocity="10" />
  </joint>

  <link name="LeftForeArm_rz">
    <inertial>
      <origin xyz="0 0 0" rpy="0 0 0" />
      <mass value="0.3" />
      <inertia ixx="5.292e-05" ixy="0" ixz="0" iyy="5.292e-05" iyz="0" izz="5.292e-05" />
    </inertial>
    <visual>
      <origin xyz="0 0 0" rpy="0 0 0" />
      <geometry>
        <cylinder radius="0.021" length="0.041" />
      </geometry>
    </visual>
  

    <collision>

      <origin xyz="0 0 0" rpy="0 0 0" />

      <geometry>
        <cylinder radius="0.021" length="0.041" />
      </geometry>

    </collision></link>
  <link name="LeftForeArm_ry">
    <inertial>
      <origin xyz="0 0 0" rpy="0 0 0" />
      <mass value="0.01" />
      <inertia ixx="4e-07" ixy="0" ixz="0" iyy="4e-07" iyz="0" izz="4e-07" />
    </inertial>
  </link>
  <link name="LeftForeArm">
    <inertial>
      <origin xyz="0 0 0" rpy="0 0 0" />
      <mass value="0.01" />
      <inertia ixx="1e-05" ixy="0" ixz="0" iyy="1e-05" iyz="0" izz="1e-05" />
    </inertial>
    <visual>
      <origin xyz="0.05 -0 -0" rpy="0 1.57 0" />
      <geometry>
        <cylinder radius="0.005" length="0.1" />
      </geometry>
    </visual>
  

 </link>
  <joint name="LeftArm_to_LeftForeArm_rz" type="revolute">
    <parent link="LeftArm" />
    <child link="LeftForeArm_rz" />
    <origin xyz="0.16500023 0.00000001 0.00000011" rpy="0 0 0" />
    <axis xyz="0 0 1" />
    <limit lower="-3.14159" upper="3.14159" effort="100" velocity="10" />
  </joint>
  <joint name="LeftForeArm_rz_to_LeftForeArm_ry" type="fixed">
    <parent link="LeftForeArm_rz" />
    <child link="LeftForeArm_ry" />
    <origin xyz="0 0 0" rpy="0 0 0" />
    <axis xyz="0 1 0" />
    <limit lower="-3.14159" upper="3.14159" effort="100" velocity="10" />
  </joint>
  <joint name="LeftForeArm_ry_to_LeftForeArm" type="fixed">
    <parent link="LeftForeArm_ry" />
    <child link="LeftForeArm" />
    <origin xyz="0 0 0" rpy="0 0 0" />
    <axis xyz="1 0 0" />
    <limit lower="-3.14159" upper="3.14159" effort="100" velocity="10" />
  </joint>

  <link name="LeftHand_rz">
    <inertial>
      <origin xyz="0 0 0" rpy="0 0 0" />
      <mass value="0.01" />
      <inertia ixx="4e-07" ixy="0" ixz="0" iyy="4e-07" iyz="0" izz="4e-07" />
    </inertial>
  </link>
  <link name="LeftHand_ry">
    <inertial>
      <origin xyz="0 0 0" rpy="0 0 0" />
      <mass value="0.01" />
      <inertia ixx="4e-07" ixy="0" ixz="0" iyy="4e-07" iyz="0" izz="4e-07" />
    </inertial>
  </link>
  <link name="LeftHand">
    <inertial>
      <origin xyz="0 0 0" rpy="0 0 0" />
      <mass value="0.01" />
      <inertia ixx="4e-07" ixy="0" ixz="0" iyy="4e-07" iyz="0" izz="4e-07" />
    </inertial>
    <visual>
      <geometry>
        <sphere radius="0.01" />
      </geometry>
    </visual>
  

    <collision>

      <geometry>
        <sphere radius="0.01" />
      </geometry>

    </collision></link>
  <joint name="LeftForeArm_to_LeftHand_rz" type="fixed">
    <parent link="LeftForeArm" />
    <child link="LeftHand_rz" />
    <origin xyz="0.12600007 0.00000003 0.00000007" rpy="0 0 0" />
    <axis xyz="0 0 1" />
    <limit lower="-3.14159" upper="3.14159" effort="100" velocity="10" />
  </joint>
  <joint name="LeftHand_rz_to_LeftHand_ry" type="fixed">
    <parent link="LeftHand_rz" />
    <child link="LeftHand_ry" />
    <origin xyz="0 0 0" rpy="0 0 0" />
    <axis xyz="0 1 0" />
    <limit lower="-3.14159" upper="3.14159" effort="100" velocity="10" />
  </joint>
  <joint name="LeftHand_ry_to_LeftHand" type="fixed">
    <parent link="LeftHand_ry" />
    <child link="LeftHand" />
    <origin xyz="0 0 0" rpy="0 0 0" />
    <axis xyz="1 0 0" />
    <limit lower="-3.14159" upper="3.14159" effort="100" velocity="10" />
  </joint>

  <link name="LeftHand_End">
    <inertial>
      <origin xyz="0 0 0" rpy="0 0 0" />
      <mass value="0.01" />
      <inertia ixx="4e-07" ixy="0" ixz="0" iyy="4e-07" iyz="0" izz="4e-07" />
    </inertial>
    <visual>
      <geometry>
        <sphere radius="0.01" />
      </geometry>
    </visual>
  

    <collision>

      <geometry>
        <sphere radius="0.01" />
      </geometry>

    </collision></link>
  <joint name="LeftHand_to_LeftHand_End" type="fixed">
    <parent link="LeftHand" />
    <child link="LeftHand_End" />
    <origin xyz="0 0 0" rpy="0 0 0" />
  </joint>

  

  <link name="RightShoulder_rz">
    <inertial>
      <origin xyz="0 0 0" rpy="0 0 0" />
      <mass value="0.01" />
      <inertia ixx="4e-07" ixy="0" ixz="0" iyy="4e-07" iyz="0" izz="4e-07" />
    </inertial>
  </link>
  <link name="RightShoulder_ry">
    <inertial>
      <origin xyz="0 0 0" rpy="0 0 0" />
      <mass value="0.01" />
      <inertia ixx="4e-07" ixy="0" ixz="0" iyy="4e-07" iyz="0" izz="4e-07" />
    </inertial>
  </link>
  <link name="RightShoulder">
    <inertial>
      <origin xyz="0 0 0" rpy="0 0 0" />
      <mass value="0.01" />
      <inertia ixx="2.5e-06" ixy="0" ixz="0" iyy="2.5e-06" iyz="0" izz="2.5e-06" />
    </inertial>
    <visual>
      <origin xyz="0.025 -0 -0" rpy="0 1.57 0" />
      <geometry>
        <cylinder radius="0.005" length="0.05" />
      </geometry>
    </visual>
  

  </link>
  <joint name="Spine2_to_RightShoulder_rz" type="fixed">
    <parent link="Spine2" />
    <child link="RightShoulder_rz" />
    <origin xyz="0.0987305 -0.00740189 -0.03000034" rpy="0 0 1.5707963" />
    <axis xyz="0 0 1" />
    <limit lower="-3.14159" upper="3.14159" effort="100" velocity="10" />
  </joint>
  <joint name="RightShoulder_rz_to_RightShoulder_ry" type="fixed">
    <parent link="RightShoulder_rz" />
    <child link="RightShoulder_ry" />
    <origin xyz="0 0 0" rpy="0 1.5707963 0" />
    <axis xyz="0 1 0" />
    <limit lower="-3.14159" upper="3.14159" effort="100" velocity="10" />
  </joint>
  <joint name="RightShoulder_ry_to_RightShoulder" type="fixed">
    <parent link="RightShoulder_ry" />
    <child link="RightShoulder" />
    <origin xyz="0 0 0" rpy="-1.5707963 0 0" />
    <axis xyz="1 0 0" />
    <limit lower="-3.14159" upper="3.14159" effort="100" velocity="10" />
  </joint>

  <link name="RightArm_rz">
    <inertial>
      <origin xyz="0 0 -0.04" rpy="0 0 0" />
      <mass value="0.3" />
      <inertia ixx="5.292e-05" ixy="0" ixz="0" iyy="5.292e-05" iyz="0" izz="5.292e-05" />
    </inertial>
    <visual>
      <origin xyz="0 0 -0.04" rpy="0 0 0" />
      <geometry>
        <cylinder radius="0.021" length="0.041" />
      </geometry>
    </visual>
  

    <collision>

      <origin xyz="0 0 -0.04" rpy="0 0 0" />

      <geometry>
        <cylinder radius="0.021" length="0.041" />
      </geometry>

    </collision></link>
  <link name="RightArm_ry">
    <inertial>
      <origin xyz="0 0 0" rpy="0 0 0" />
      <mass value="0.3" />
      <inertia ixx="5.292e-05" ixy="0" ixz="0" iyy="5.292e-05" iyz="0" izz="5.292e-05" />
    </inertial>
    <visual>
      <origin xyz="0 0 0" rpy="-1.5707963 0 0" />
      <geometry>
        <cylinder radius="0.021" length="0.041" />
      </geometry>
    </visual>
  

    <collision>

      <origin xyz="0 0 0" rpy="-1.5707963 0 0" />

      <geometry>
        <cylinder radius="0.021" length="0.041" />
      </geometry>

    </collision></link>
  <link name="RightArm">
    <inertial>
      <origin xyz="0.04 0 0" rpy="0 0 0" />
      <mass value="0.3" />
      <inertia ixx="0.000675" ixy="0" ixz="0" iyy="0.000675" iyz="0" izz="0.000675" />
    </inertial>
    <visual>
      <origin xyz="0.075 -0 -0" rpy="0 1.57 0" />
      <geometry>
        <cylinder radius="0.005" length="0.15" />
      </geometry>
    </visual>
    <visual>
      <origin xyz="0.04 0.0 0" rpy="0 1.5707963 0" />
      <geometry>
        <cylinder radius="0.021" length="0.041" />
      </geometry>
    </visual>
  

  

    <collision>

      <origin xyz="0.04 0.0 0" rpy="0 1.5707963 0" />

      <geometry>
        <cylinder radius="0.021" length="0.041" />
      </geometry>

    </collision></link>
  <joint name="RightShoulder_to_RightArm_rz" type="revolute">
    <parent link="RightShoulder" />
    <child link="RightArm_rz" />
    <origin xyz="0.05642067 -0.00000017 -0.00000004" rpy="0 0 0" />
    <axis xyz="0 0 1" />
    <limit lower="-3.14159" upper="3.14159" effort="100" velocity="10" />
  </joint>
  <joint name="RightArm_rz_to_RightArm_ry" type="revolute">
    <parent link="RightArm_rz" />
    <child link="RightArm_ry" />
    <origin xyz="0 0 0" rpy="0 0 0" />
    <axis xyz="0 1 0" />
    <limit lower="-3.14159" upper="3.14159" effort="100" velocity="10" />
  </joint>
  <joint name="RightArm_ry_to_RightArm" type="revolute">
    <parent link="RightArm_ry" />
    <child link="RightArm" />
    <origin xyz="0 0 0" rpy="0 0 0" />
    <axis xyz="1 0 0" />
    <limit lower="-3.14159" upper="3.14159" effort="100" velocity="10" />
  </joint>

  <link name="RightForeArm_rz">
    <inertial>
      <origin xyz="0 0 0" rpy="0 0 0" />
      <mass value="0.3" />
      <inertia ixx="5.292e-05" ixy="0" ixz="0" iyy="5.292e-05" iyz="0" izz="5.292e-05" />
    </inertial>
    <visual>
      <origin xyz="0 0 0" rpy="0 0 0" />
      <geometry>
        <cylinder radius="0.021" length="0.041" />
      </geometry>
    </visual>
  

    <collision>

      <origin xyz="0 0 0" rpy="0 0 0" />

      <geometry>
        <cylinder radius="0.021" length="0.041" />
      </geometry>

    </collision></link>
  <link name="RightForeArm_ry">
    <inertial>
      <origin xyz="0 0 0" rpy="0 0 0" />
      <mass value="0.01" />
      <inertia ixx="4e-07" ixy="0" ixz="0" iyy="4e-07" iyz="0" izz="4e-07" />
    </inertial>
  </link>
  <link name="RightForeArm">
    <inertial>
      <origin xyz="0 0 0" rpy="0 0 0" />
      <mass value="0.01" />
      <inertia ixx="1e-05" ixy="0" ixz="0" iyy="1e-05" iyz="0" izz="1e-05" />
    </inertial>
    <visual>
      <origin xyz="0.05 -0 -0" rpy="0 1.57 0" />
      <geometry>
        <cylinder radius="0.005" length="0.1" />
      </geometry>
    </visual>
  

 </link>
  <joint name="RightArm_to_RightForeArm_rz" type="revolute">
    <parent link="RightArm" />
    <child link="RightForeArm_rz" />
    <origin xyz="0.16500046 0.0000001 0.00000003" rpy="0 0 0" />
    <axis xyz="0 0 1" />
    <limit lower="-3.14159" upper="3.14159" effort="100" velocity="10" />
  </joint>
  <joint name="RightForeArm_rz_to_RightForeArm_ry" type="fixed">
    <parent link="RightForeArm_rz" />
    <child link="RightForeArm_ry" />
    <origin xyz="0 0 0" rpy="0 0 0" />
    <axis xyz="0 1 0" />
    <limit lower="-3.14159" upper="3.14159" effort="100" velocity="10" />
  </joint>
  <joint name="RightForeArm_ry_to_RightForeArm" type="fixed">
    <parent link="RightForeArm_ry" />
    <child link="RightForeArm" />
    <origin xyz="0 0 0" rpy="0 0 0" />
    <axis xyz="1 0 0" />
    <limit lower="-3.14159" upper="3.14159" effort="100" velocity="10" />
  </joint>

  <link name="RightHand_rz">
    <inertial>
      <origin xyz="0 0 0" rpy="0 0 0" />
      <mass value="0.01" />
      <inertia ixx="4e-07" ixy="0" ixz="0" iyy="4e-07" iyz="0" izz="4e-07" />
    </inertial>
  </link>
  <link name="RightHand_ry">
    <inertial>
      <origin xyz="0 0 0" rpy="0 0 0" />
      <mass value="0.01" />
      <inertia ixx="4e-07" ixy="0" ixz="0" iyy="4e-07" iyz="0" izz="4e-07" />
    </inertial>
  </link>
  <link name="RightHand">
    <inertial>
      <origin xyz="0 0 0" rpy="0 0 0" />
      <mass value="0.01" />
      <inertia ixx="4e-07" ixy="0" ixz="0" iyy="4e-07" iyz="0" izz="4e-07" />
    </inertial>
    <visual>
      <geometry>
        <sphere radius="0.01" />
      </geometry>
    </visual>
  

    <collision>

      <geometry>
        <sphere radius="0.01" />
      </geometry>

    </collision></link>
  <joint name="RightForeArm_to_RightHand_rz" type="fixed">
    <parent link="RightForeArm" />
    <child link="RightHand_rz" />
    <origin xyz="0.12599888 0.0000007 0.00000216" rpy="0 0 0" />
    <axis xyz="0 0 1" />
    <limit lower="-3.14159" upper="3.14159" effort="100" velocity="10" />
  </joint>
  <joint name="RightHand_rz_to_RightHand_ry" type="fixed">
    <parent link="RightHand_rz" />
    <child link="RightHand_ry" />
    <origin xyz="0 0 0" rpy="0 0 0" />
    <axis xyz="0 1 0" />
    <limit lower="-3.14159" upper="3.14159" effort="100" velocity="10" />
  </joint>
  <joint name="RightHand_ry_to_RightHand" type="fixed">
    <parent link="RightHand_ry" />
    <child link="RightHand" />
    <origin xyz="0 0 0" rpy="0 0 0" />
    <axis xyz="1 0 0" />
    <limit lower="-3.14159" upper="3.14159" effort="100" velocity="10" />
  </joint>

  <link name="RightHand_End">
    <inertial>
      <origin xyz="0 0 0" rpy="0 0 0" />
      <mass value="0.01" />
      <inertia ixx="4e-07" ixy="0" ixz="0" iyy="4e-07" iyz="0" izz="4e-07" />
    </inertial>
    <visual>
      <geometry>
        <sphere radius="0.01" />
      </geometry>
    </visual>
  

    <collision>

      <geometry>
        <sphere radius="0.01" />
      </geometry>

    </collision></link>
  <joint name="RightHand_to_RightHand_End" type="fixed">
    <parent link="RightHand" />
    <child link="RightHand_End" />
    <origin xyz="0 0 0" rpy="0 0 0" />
  </joint>

</robot>
